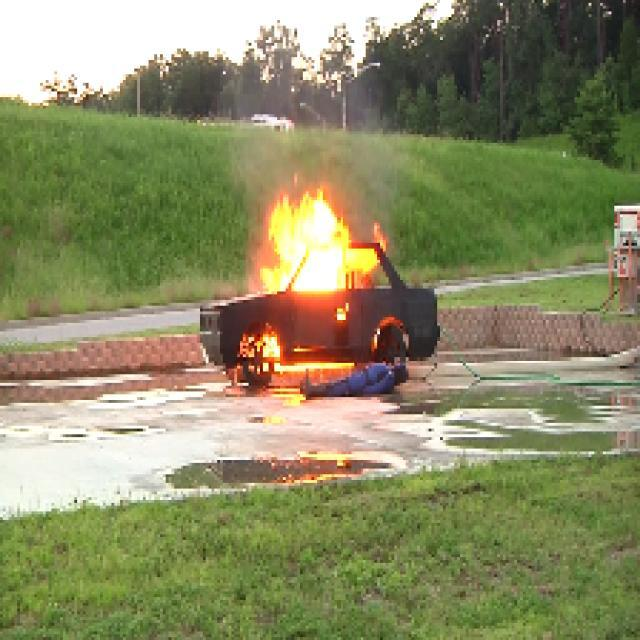Fire: (265, 185, 388, 293), (262, 338, 354, 378)
